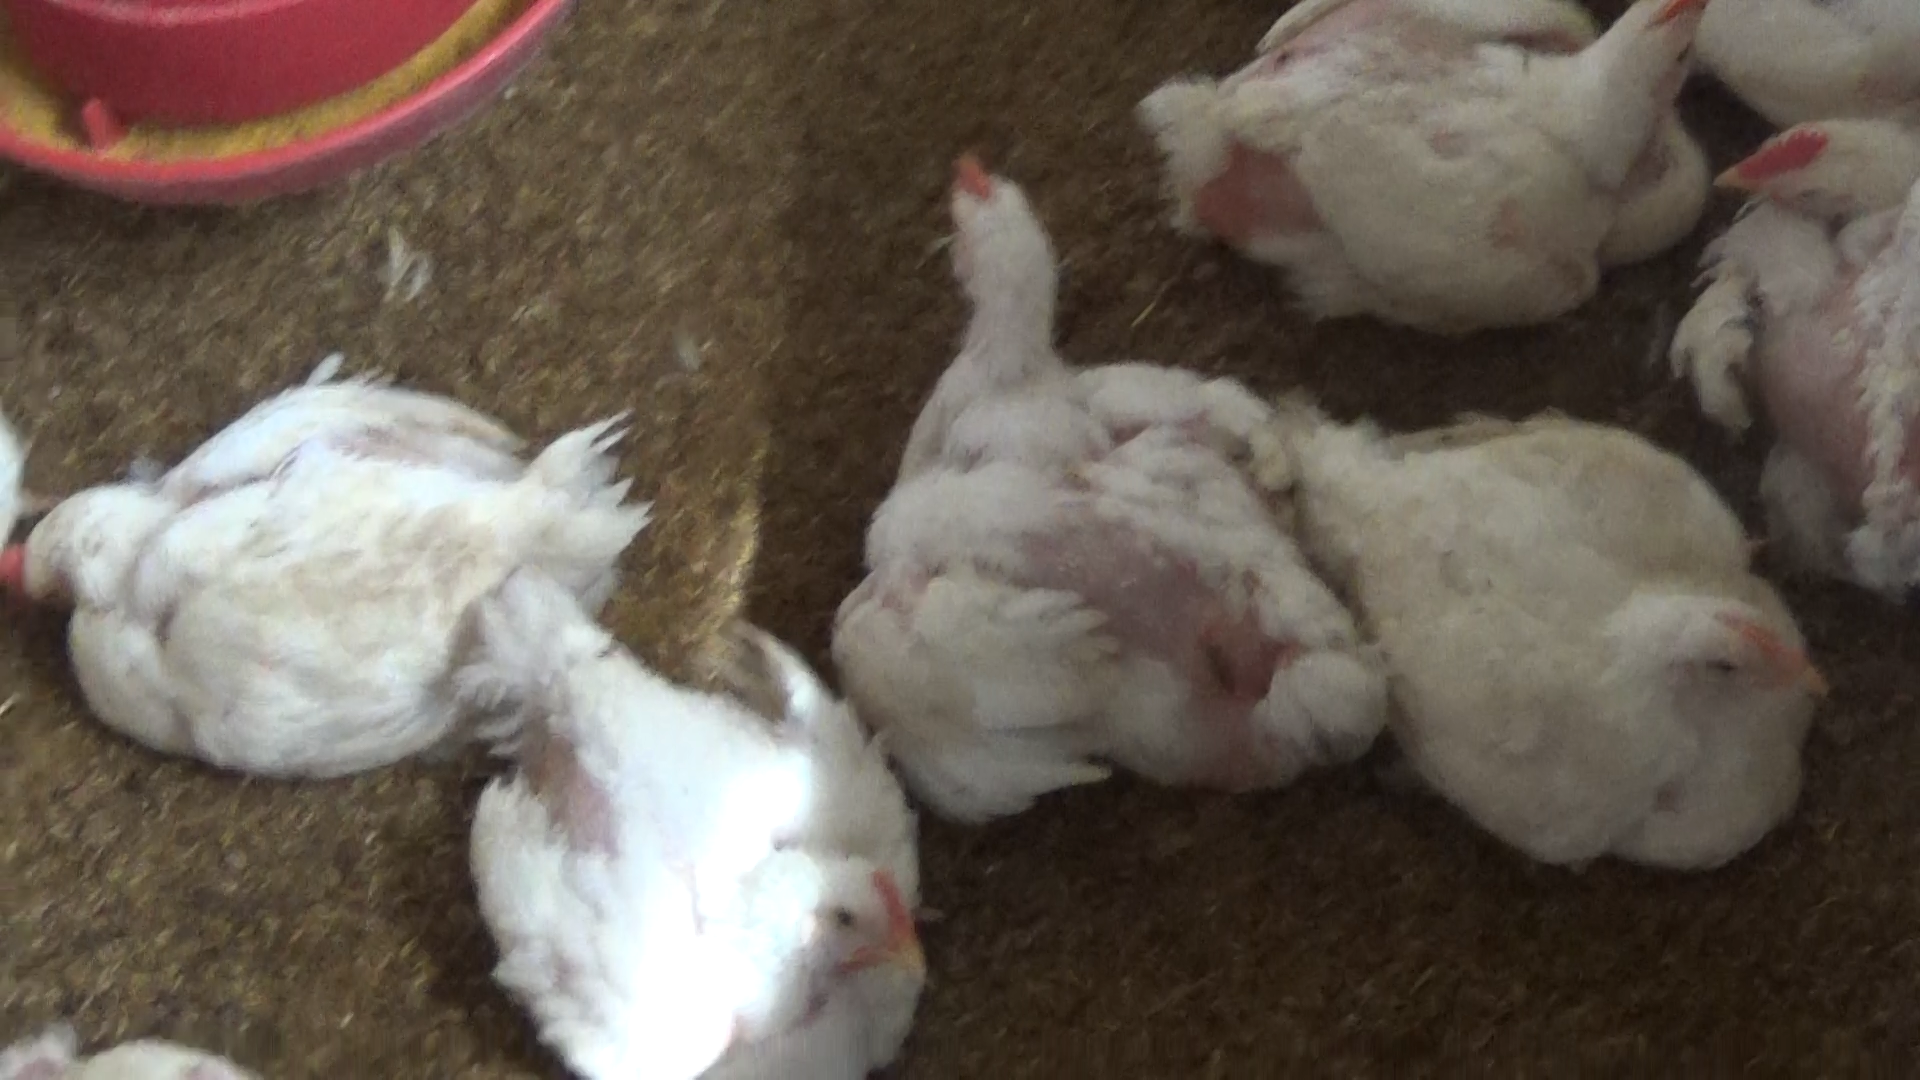Pollos: (847, 152, 1373, 789), (1302, 404, 1847, 886), (436, 568, 940, 1080), (0, 378, 621, 773), (1105, 1, 1755, 323), (1702, 112, 1920, 582)
